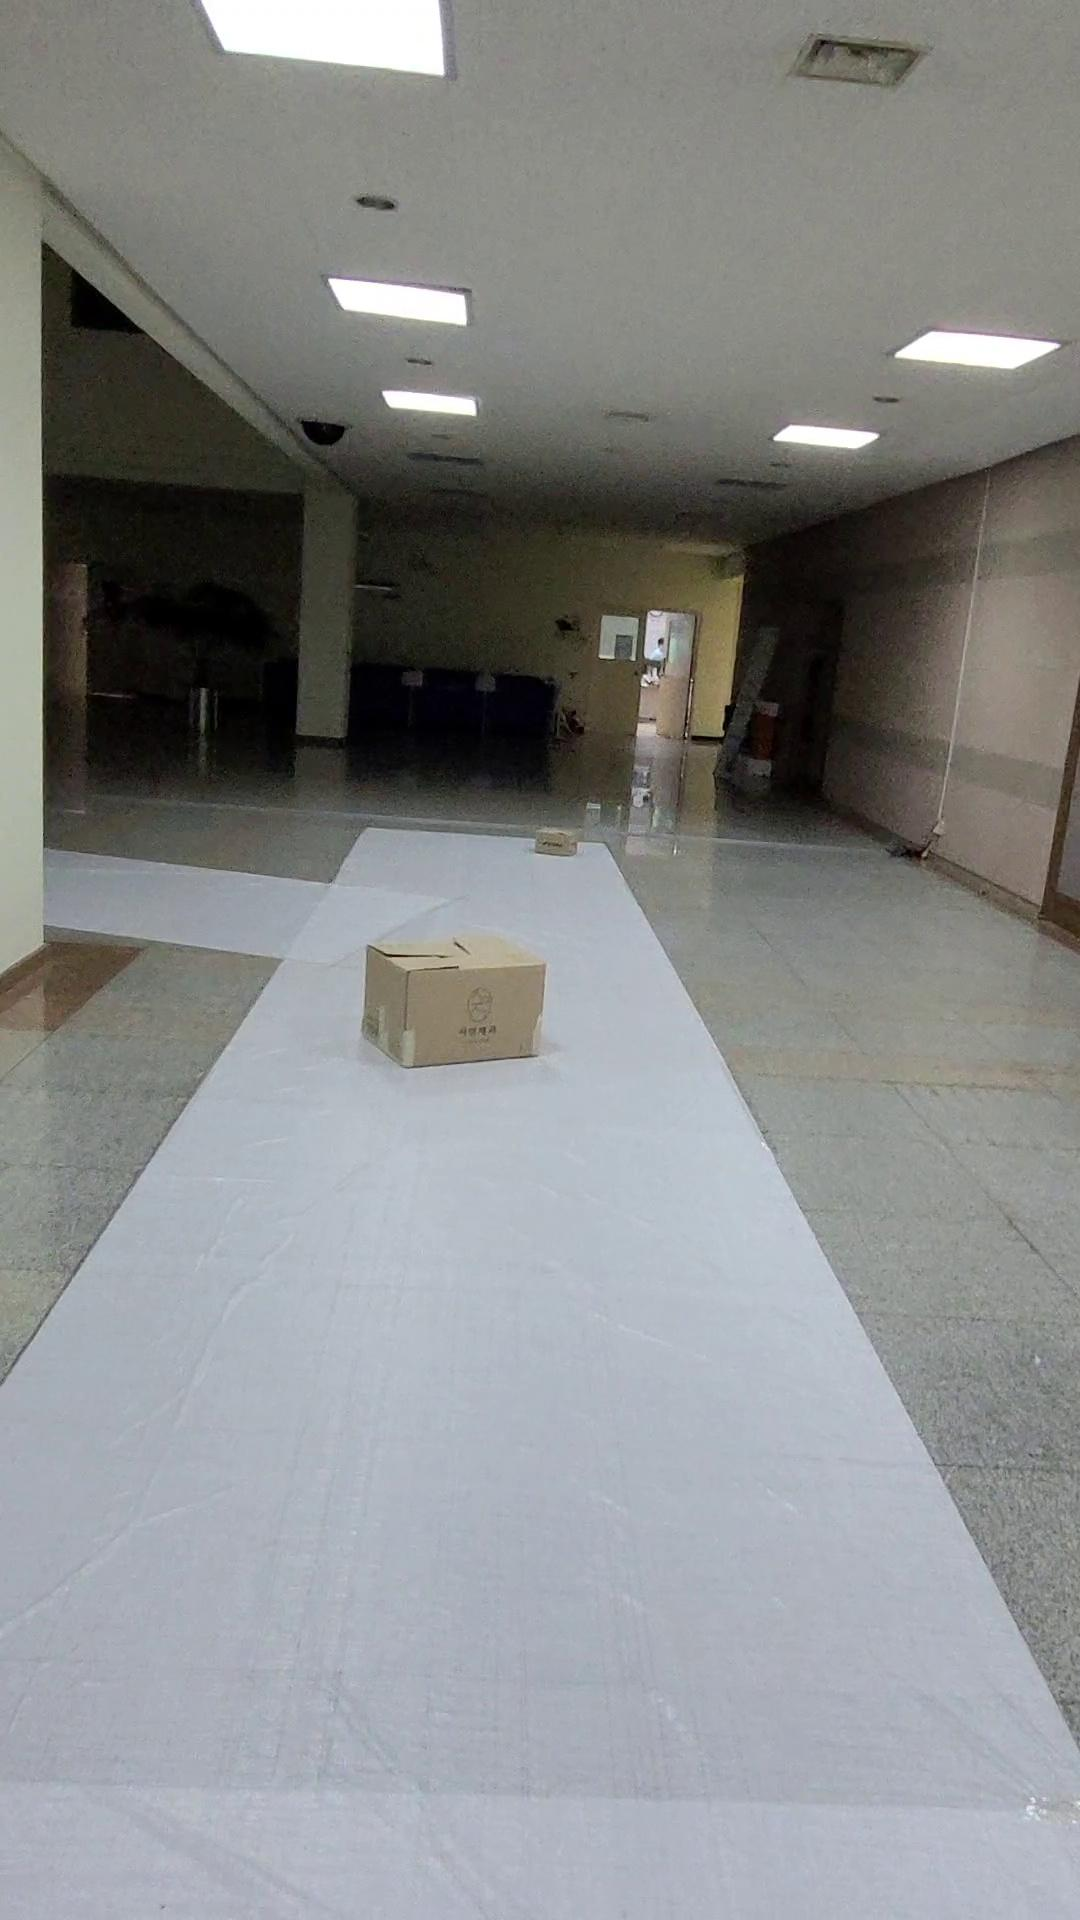Box: (318, 913, 560, 1098), (527, 790, 587, 887)
